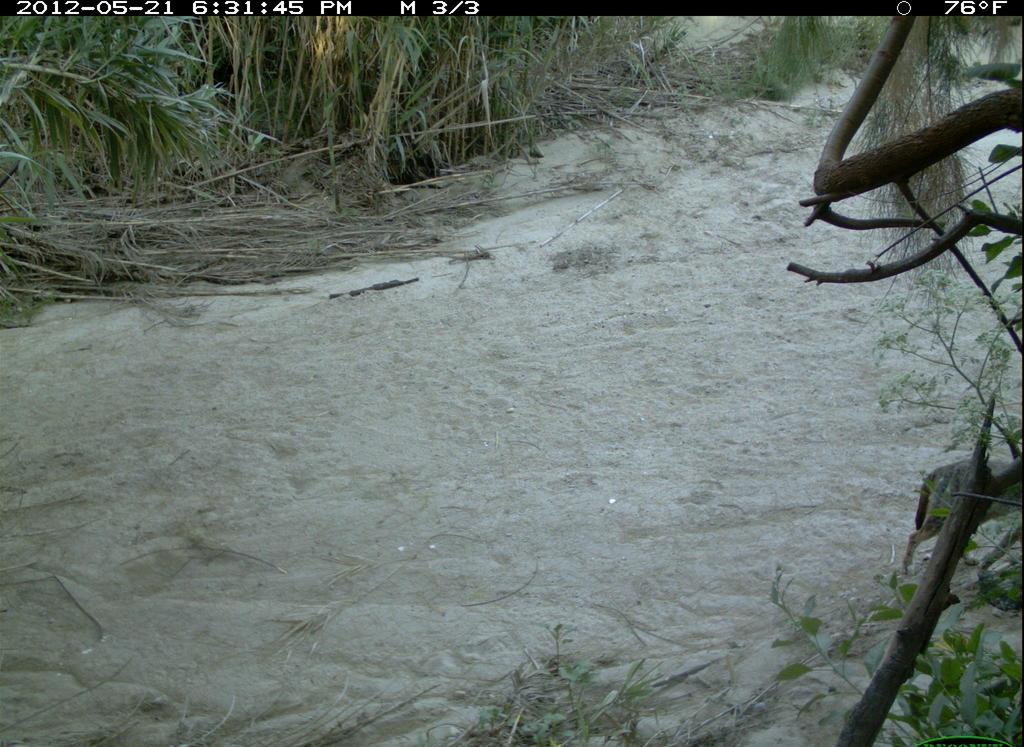coyote: (898, 452, 1019, 580)
